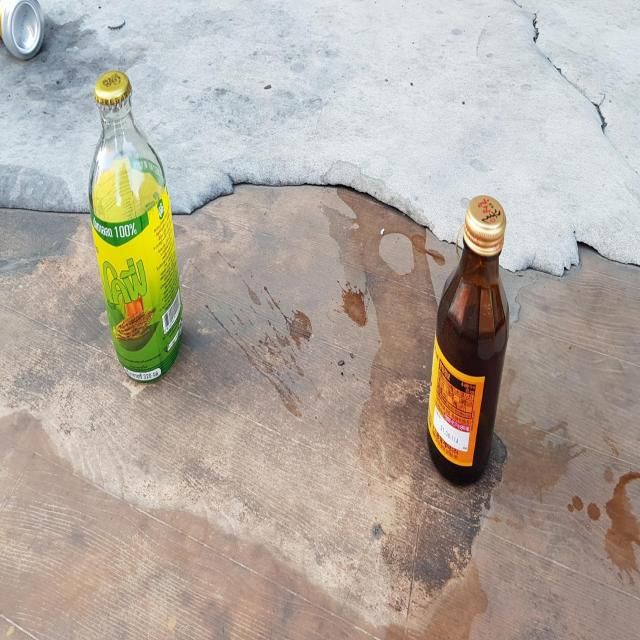glass: (88, 69, 182, 381), (428, 194, 510, 484)
